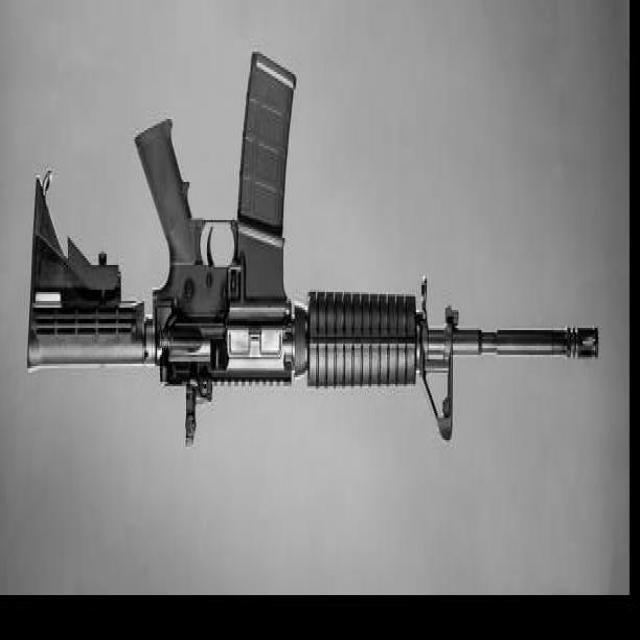weapon: (26, 47, 600, 450)
